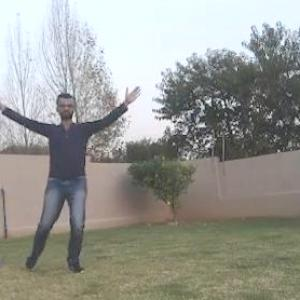takeoff: (1, 86, 141, 276)
